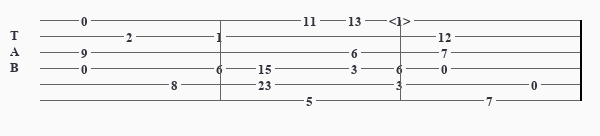0: (81, 62, 92, 75), (81, 14, 92, 27), (441, 62, 452, 75), (531, 78, 542, 91)
1: (216, 30, 227, 43)
11: (303, 14, 321, 27)
12: (438, 30, 456, 43)
13: (348, 14, 366, 27)
15: (258, 62, 276, 75)
2: (126, 30, 137, 43)
23: (258, 78, 276, 91)
3: (351, 62, 362, 75), (396, 78, 407, 91)
5: (306, 94, 317, 107)
6: (216, 62, 227, 75), (351, 46, 362, 59), (396, 62, 407, 75)
7: (441, 46, 452, 59), (486, 94, 497, 107)
8: (171, 78, 182, 91)
9: (81, 46, 92, 59)
harmonic: (389, 14, 415, 27)
